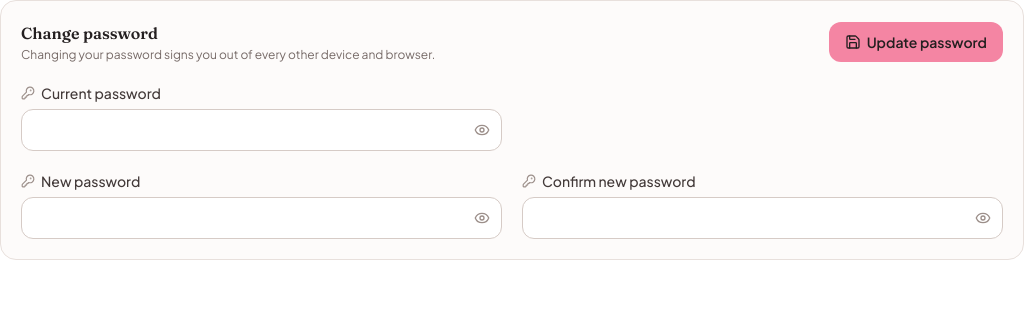
Test: ChangePasswordForm › requires all three fields before submitting
Click the button "Update password" at coordinates (916, 42), box [829, 22, 1003, 62]
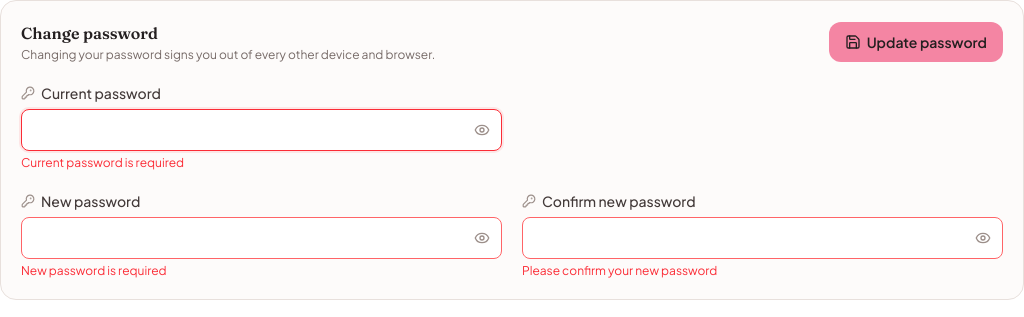
Now the text "Current password is required" is shown, box [21, 155, 184, 170]
Now the text "New password is required" is shown, box [21, 263, 167, 278]
Now the text "Please confirm your new password" is shown, box [522, 263, 717, 278]
